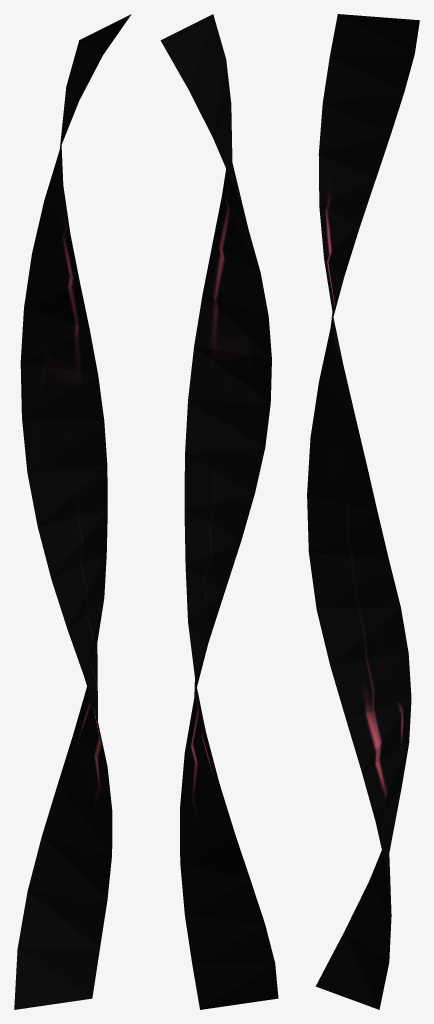
File: tx_boss_fayala_xishi.obj
3 views of the same model, side by side, from view 1: azimuth 30°, elevation 25°; view 2: azimuth 210°, elevation 25°; view 3: azimuth 330°, elevation 25° (orthographic). The views are drawn at different scales.
Parts seen in each view (by area): view 1: Plane01; view 2: Plane01; view 3: Plane01.
Boxes of the visible parts, left/top/right/bottom form: Plane01: left=14, top=14, right=131, bottom=1009; Plane01: left=160, top=14, right=278, bottom=1009; Plane01: left=307, top=14, right=419, bottom=1009.
Size of the model in its own units: 31.95 by 271 by 25.96.
1 material, 1 textured.
